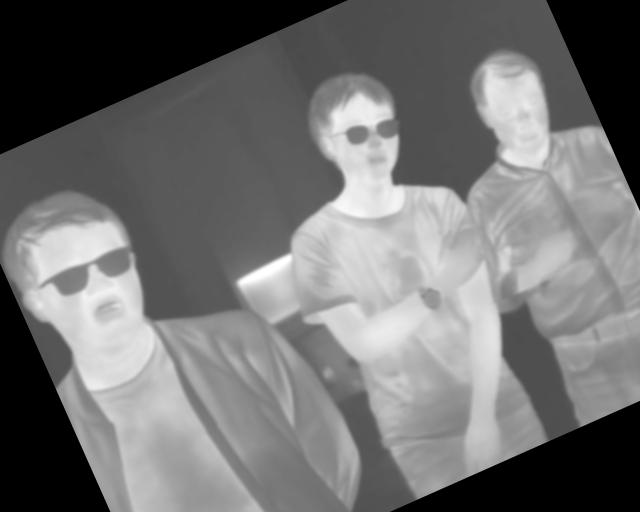face: (1, 170, 171, 378), (292, 54, 424, 196), (457, 37, 570, 167)
